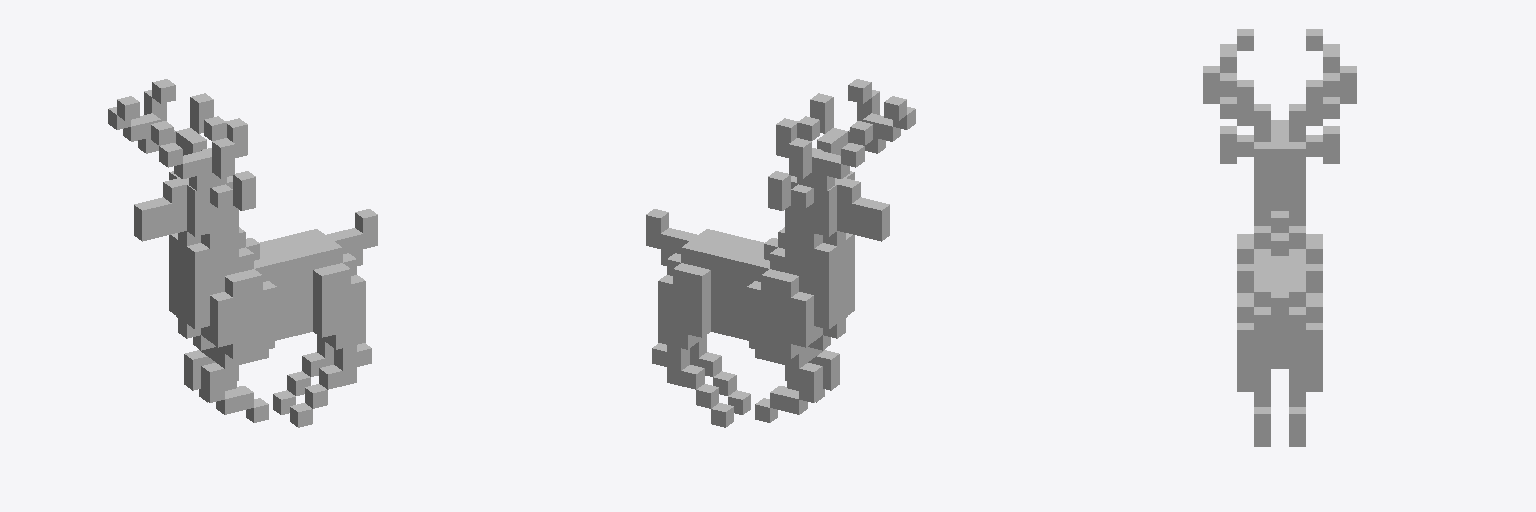
File: Enemy.obj
The picture shows the model from 3 angles: view 1: azimuth 30°, elevation 25°; view 2: azimuth 150°, elevation 25°; view 3: azimuth 270°, elevation 25°; orthographic projection.
Parts seen in each view (by area): view 1: object 1; view 2: object 1; view 3: object 1.
Part boxes in pixels (left/top/right/bottom): object 1: left=108, top=79, right=377, bottom=427; object 1: left=646, top=79, right=915, bottom=427; object 1: left=1203, top=29, right=1356, bottom=446.
Size of the model in its own units: 1.6 by 2.2 by 0.9.